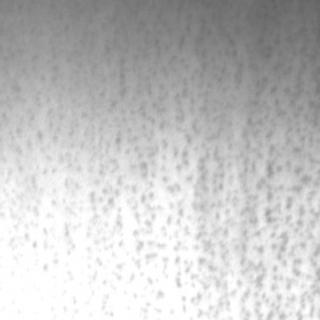pitted_surface: (18, 11, 314, 315)
